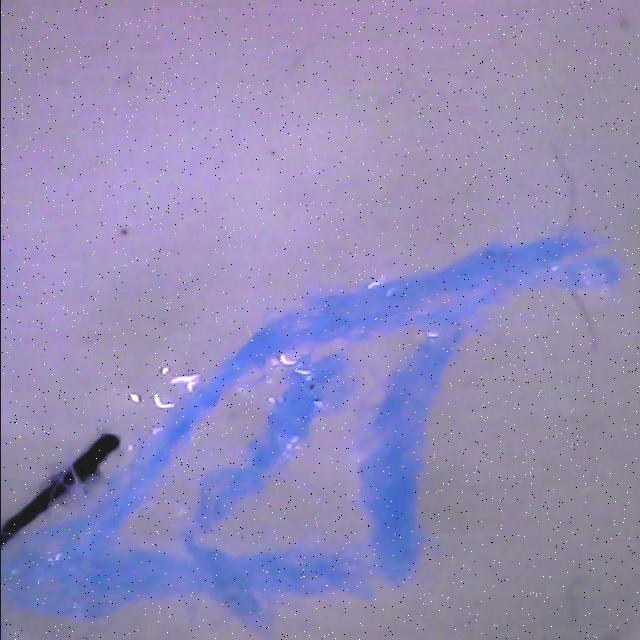Fibre: (532, 136, 610, 356)
